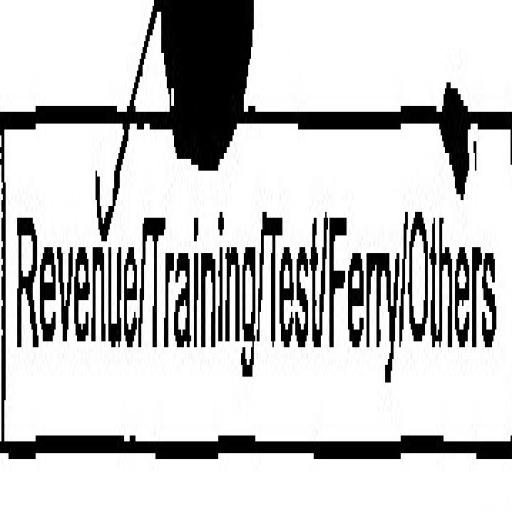check: (0, 0, 146, 506)
